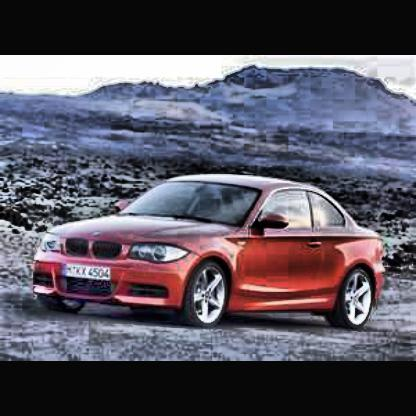BMW 1 Series Coupe 2012: (36, 171, 389, 329)
